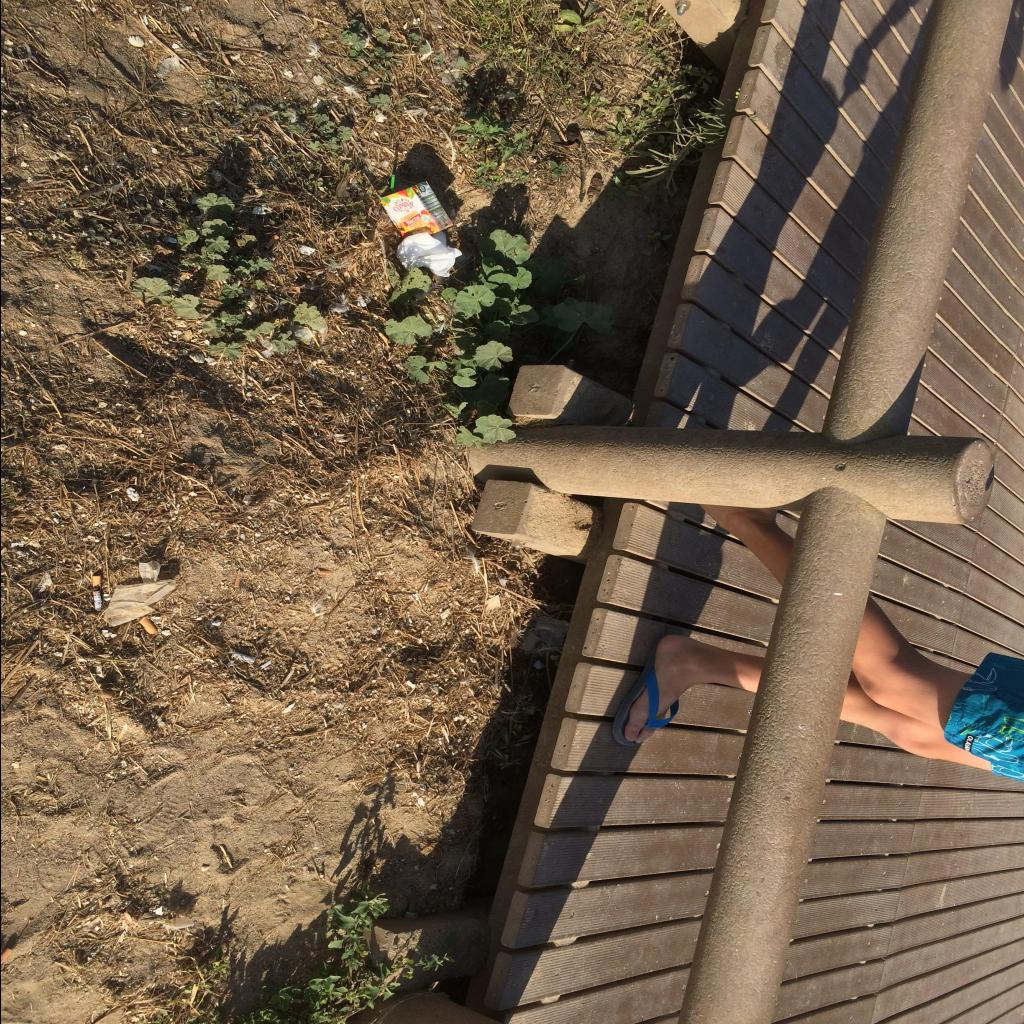Cigarette: (396, 231, 462, 276), (164, 916, 194, 930), (91, 576, 103, 610), (138, 616, 158, 634), (263, 234, 279, 250), (0, 948, 12, 964), (232, 571, 242, 587), (317, 569, 333, 575)
Plastic film: (230, 652, 256, 662)
Plastic straw: (389, 174, 397, 192)
Unlabeled litter: (104, 561, 176, 627)
